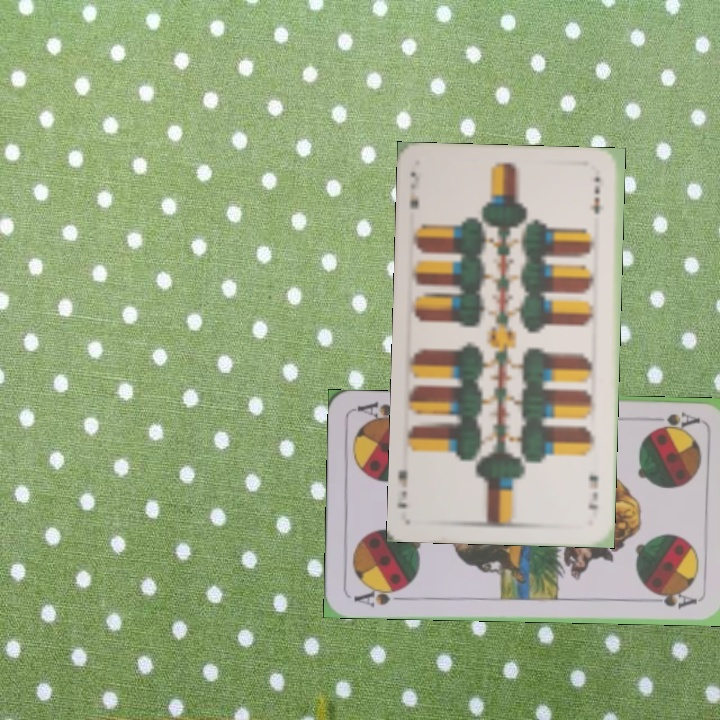E7: (405, 167, 422, 212), (584, 471, 601, 513)
SA: (349, 583, 408, 609), (642, 408, 701, 431)
